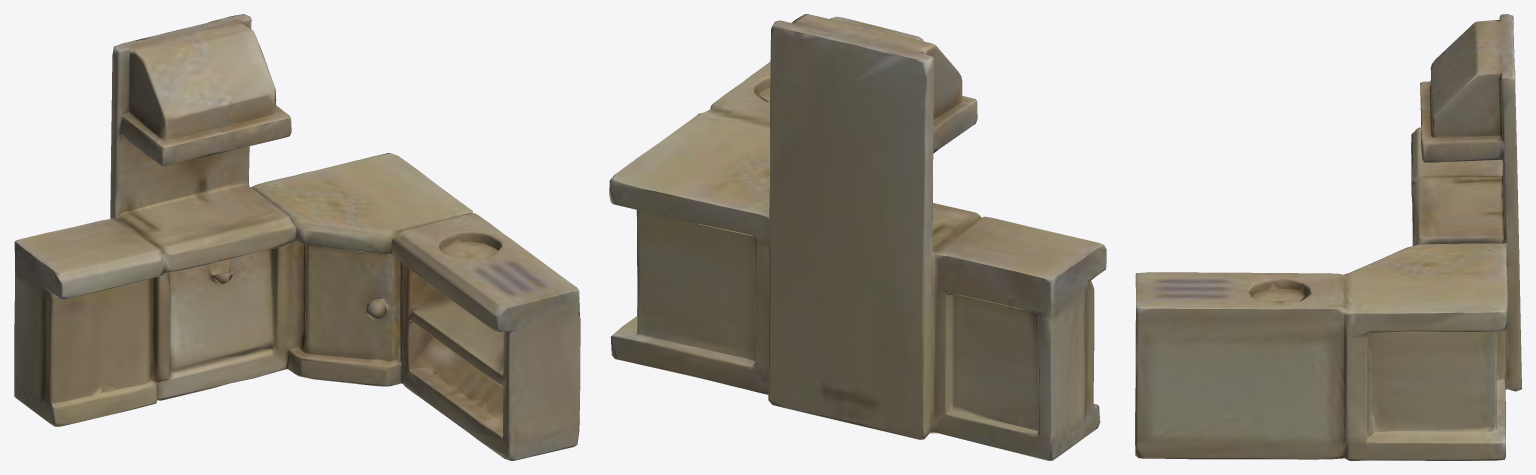
The model's file is gso_kitchen_set_classic_40hwchfeg0h.glb.
The picture shows the model from 3 angles, left to right: view 1: azimuth 30°, elevation 25°; view 2: azimuth 150°, elevation 25°; view 3: azimuth 270°, elevation 25°; orthographic projection. The views are drawn at different scales.
Parts seen in each view (by area): view 1: z-up-to-y-up; view 2: z-up-to-y-up; view 3: z-up-to-y-up.
Part boxes in pixels (box(x1,y1,x2,y2)): z-up-to-y-up: box(14, 14, 580, 460); z-up-to-y-up: box(609, 14, 1106, 460); z-up-to-y-up: box(1135, 14, 1521, 460).
Size of the model in its own units: 0.1854 by 0.1513 by 0.1673.
1 material, 1 textured.
